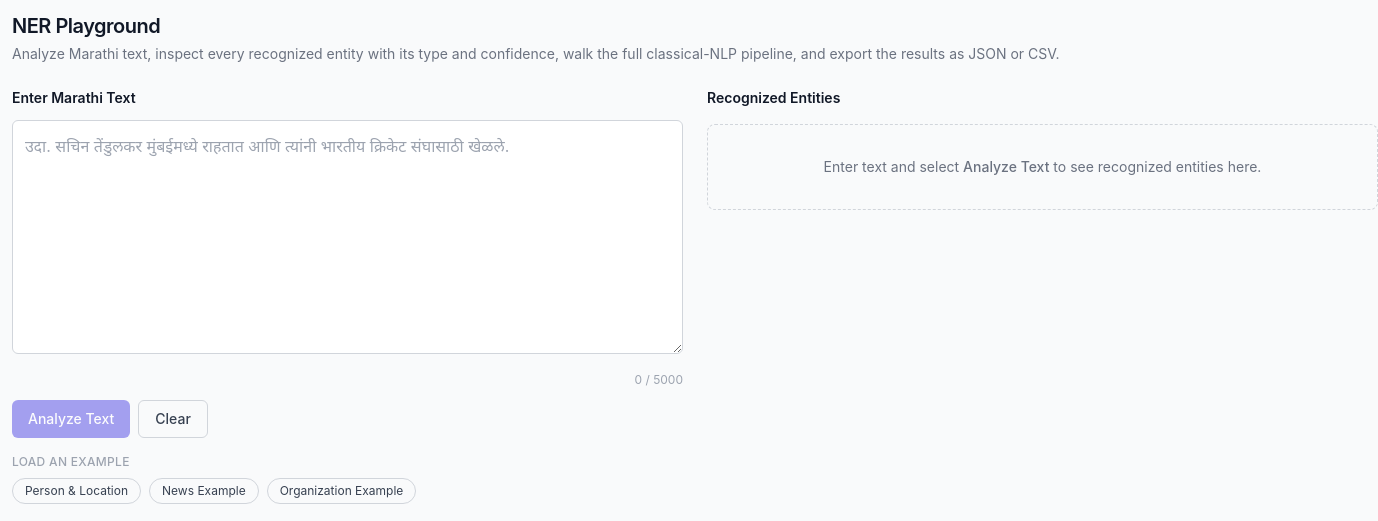
Test case: NerPlayground › shows an error message when the API fails
The width and height of the screenshot is (1378, 521).
Replace the text in the text box with "test" at (348, 237), box [12,120,683,354]
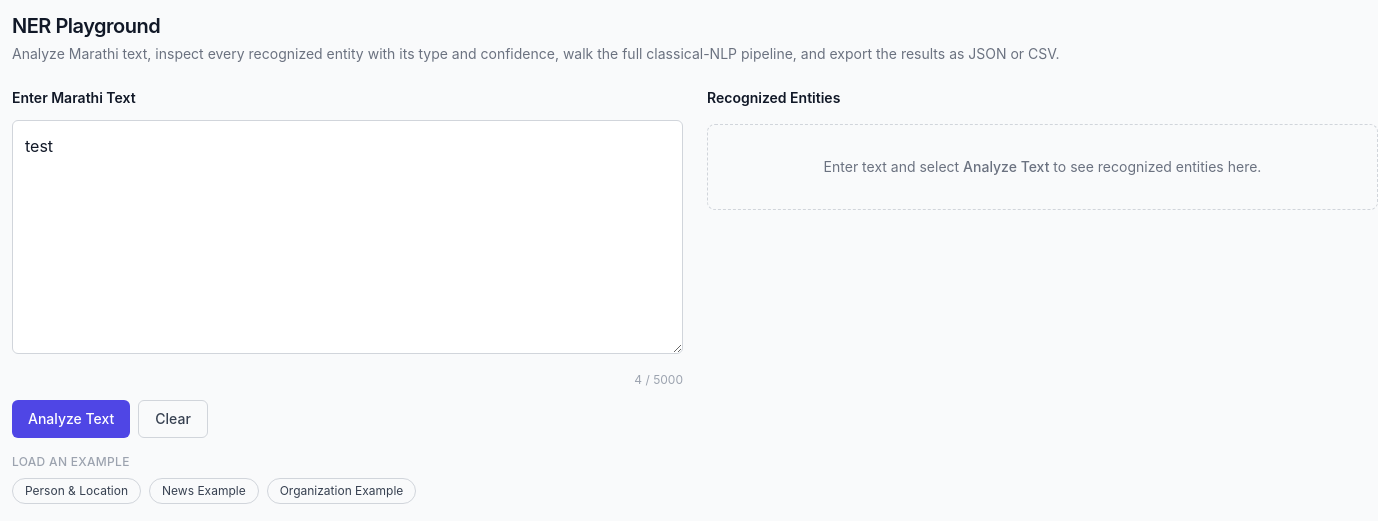
Click the button "Analyze Text" at (71, 419), box [12,400,130,438]
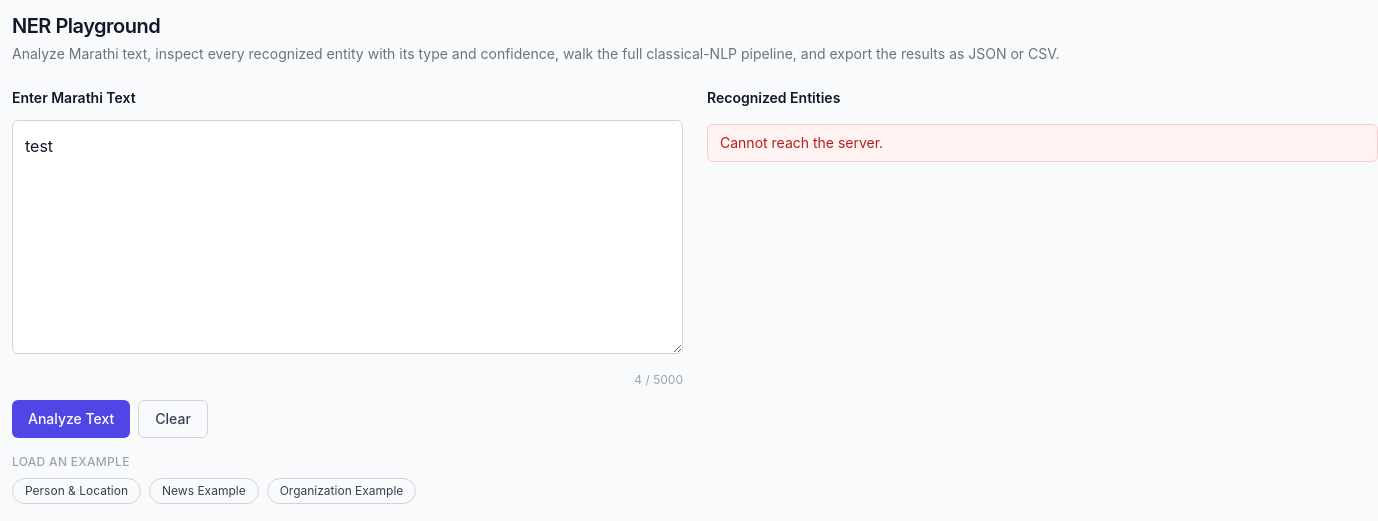
Check: the message shows "Cannot reach", box [720,134,883,151]
